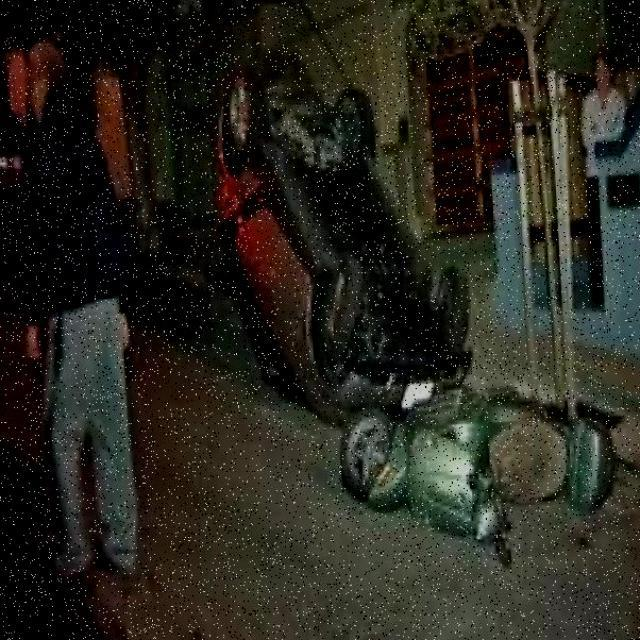accident: (197, 35, 615, 553)
